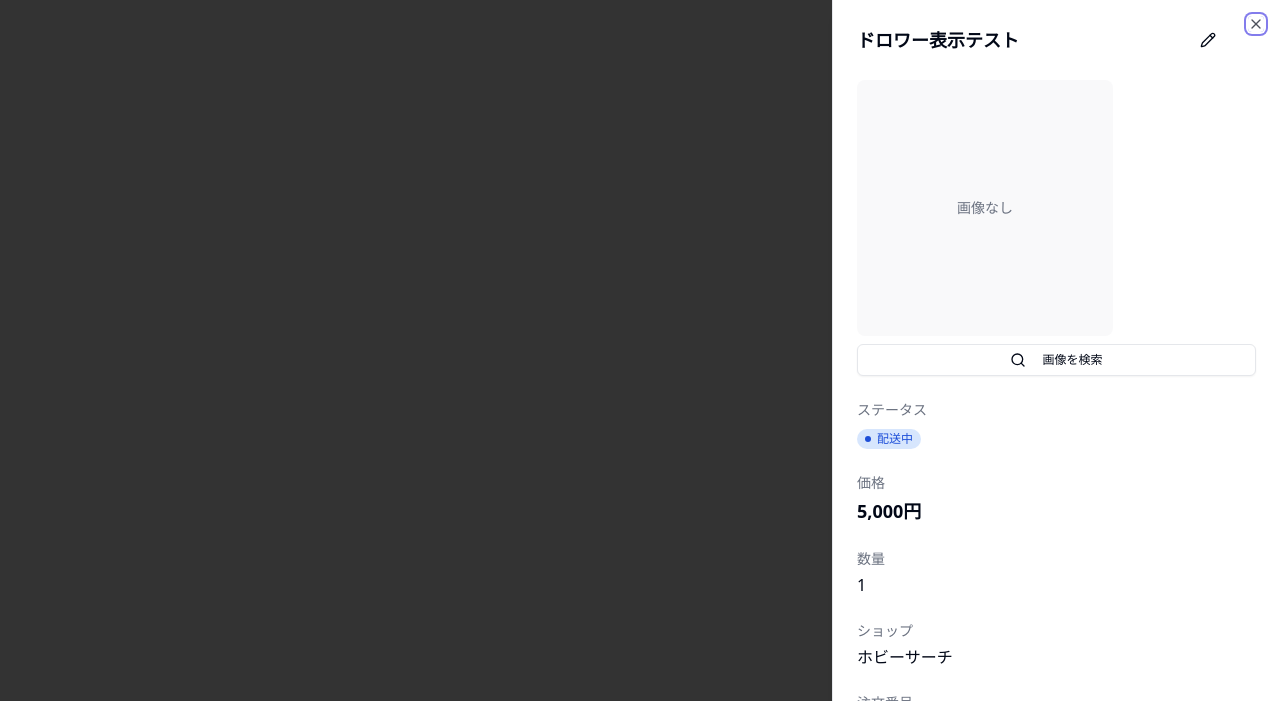
Scenario: OrderItemDrawer › handleSave - Validation › shows error when price is not an integer
Click the button titled "編集".
click(1208, 40)  # box [1192, 24, 1224, 56]
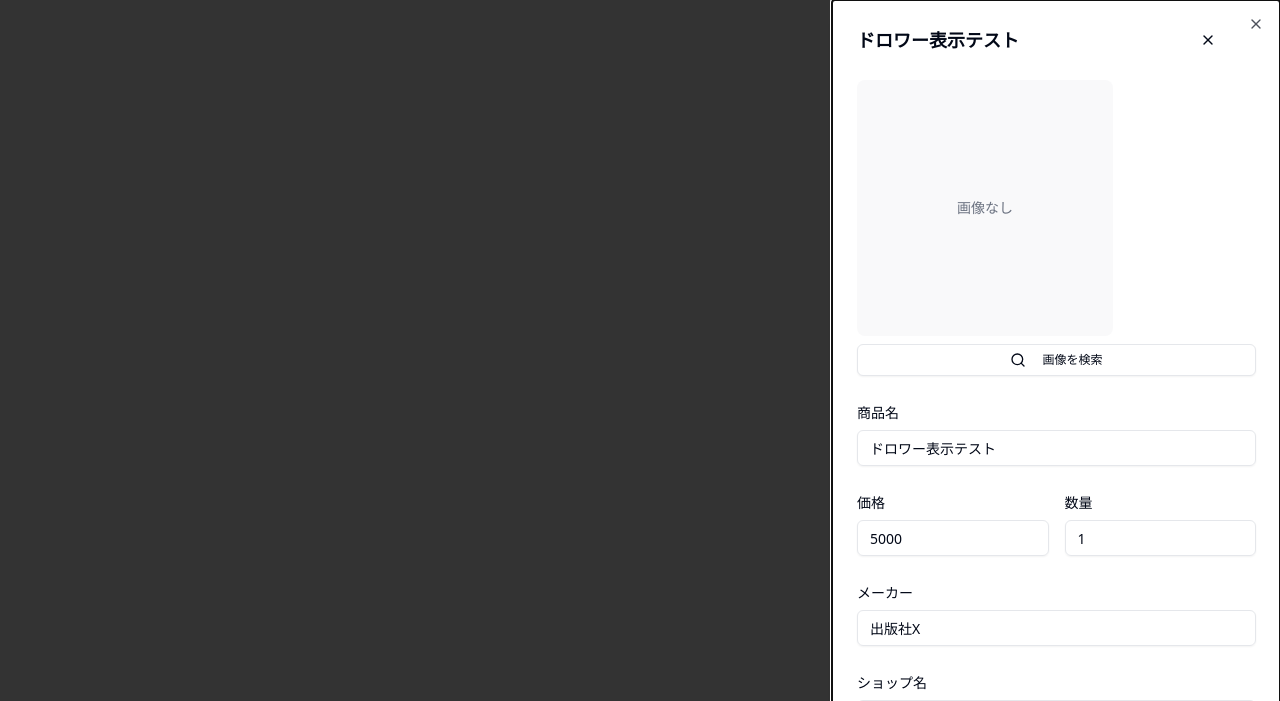
Replace the text in the number field labelled "価格" with "12.5" at coordinates (953, 538), box [857, 520, 1048, 556]
(page scrolled)
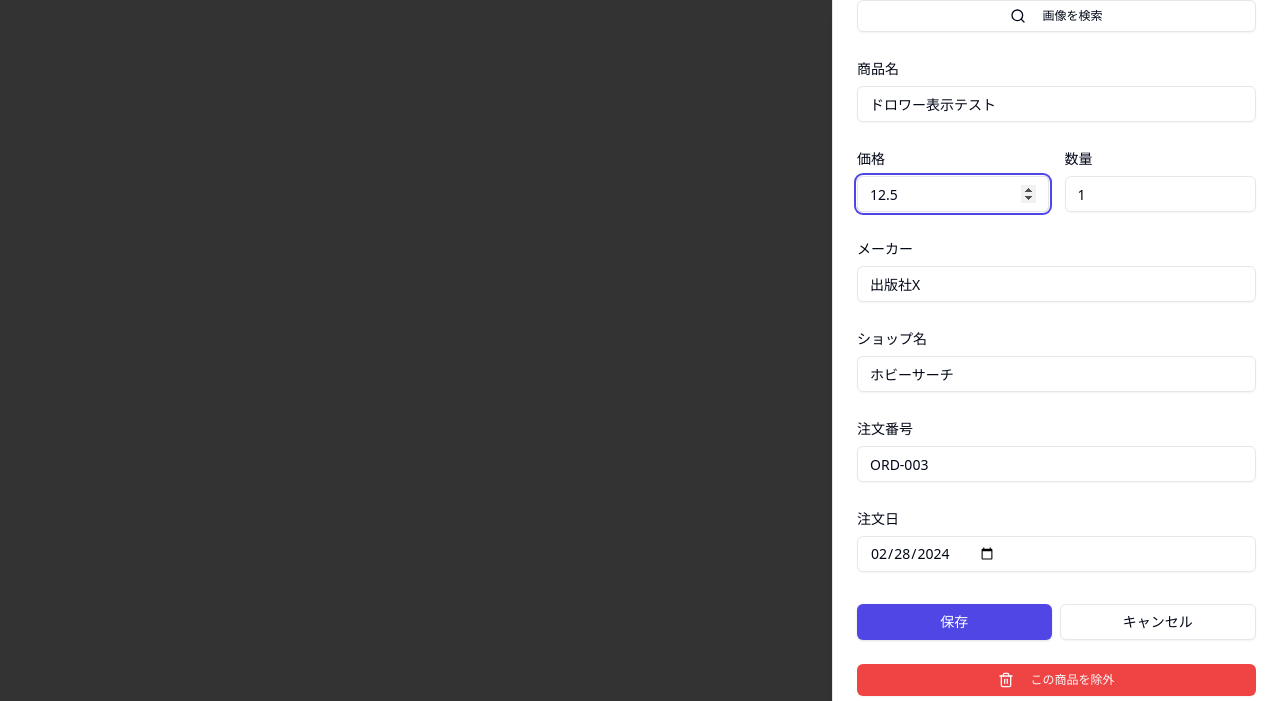
Click the button "保存".
click(954, 622)  # box [857, 604, 1052, 640]
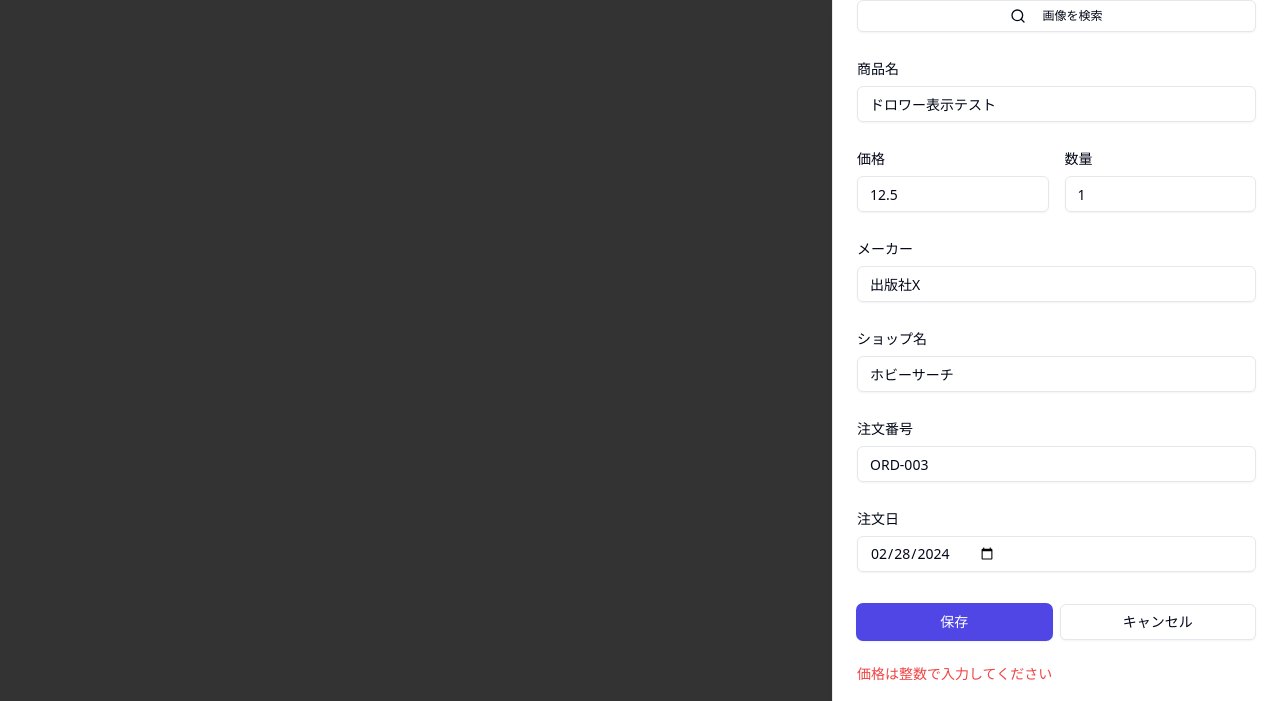
Check: the text "価格は整数で入力してください" is shown, box [857, 664, 1052, 683]
